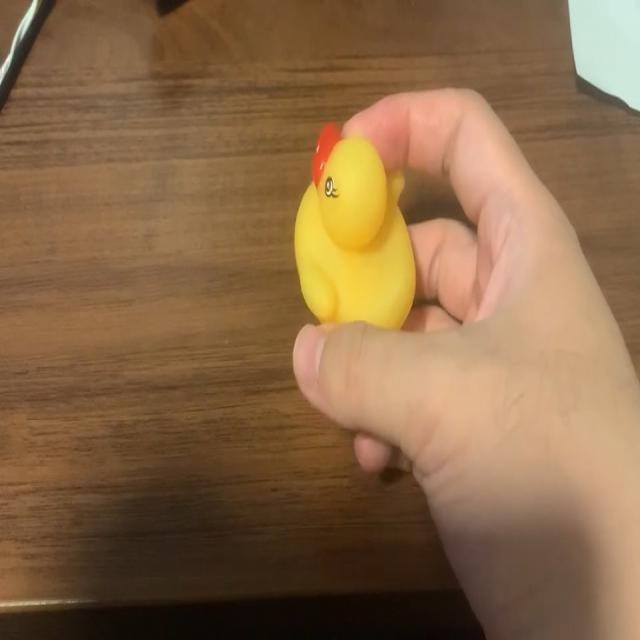rubber-duck: (293, 122, 413, 327)
